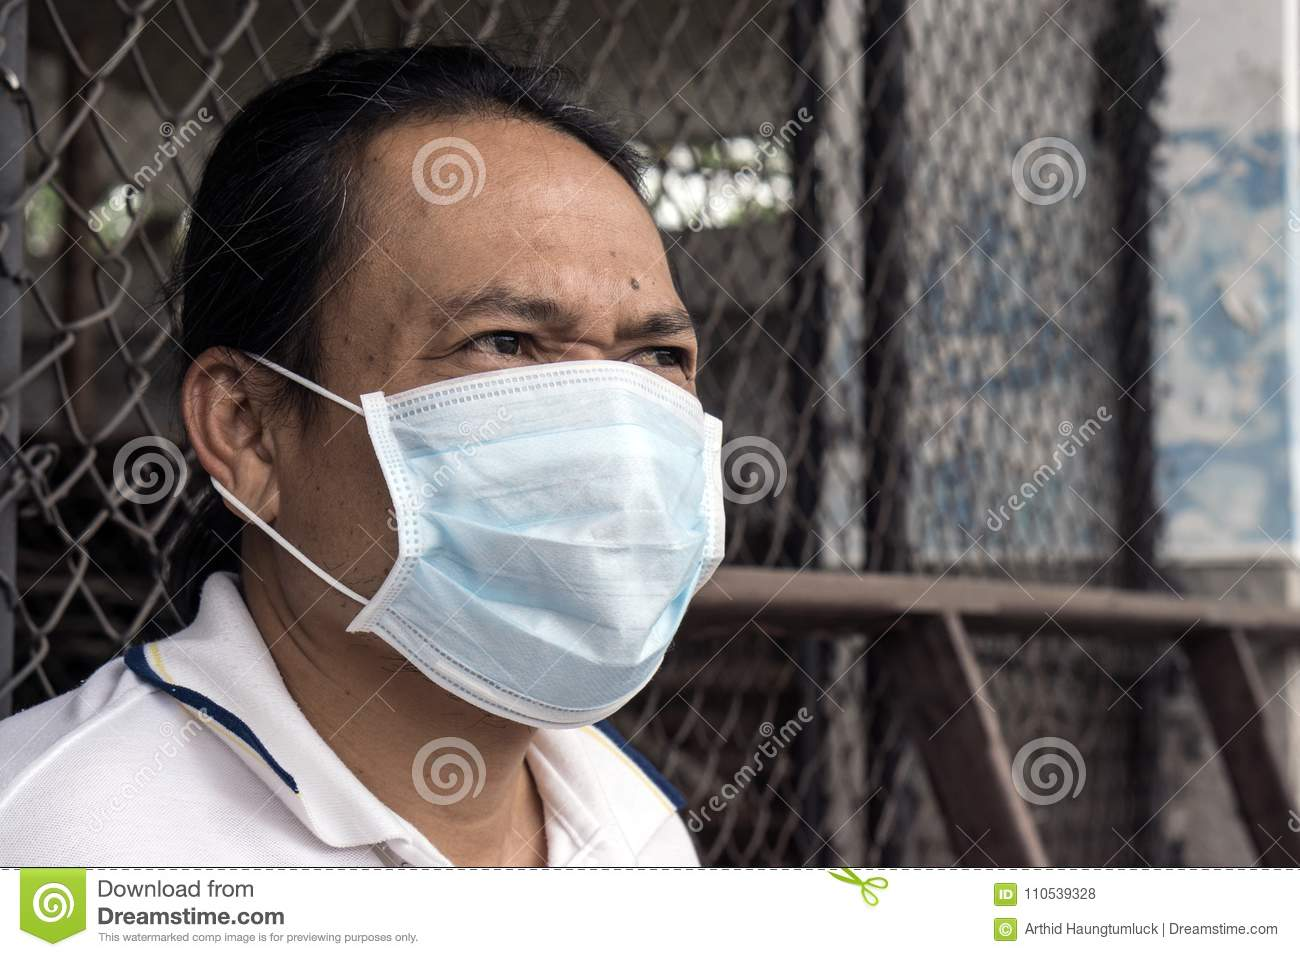mask: (325, 363, 729, 740)
